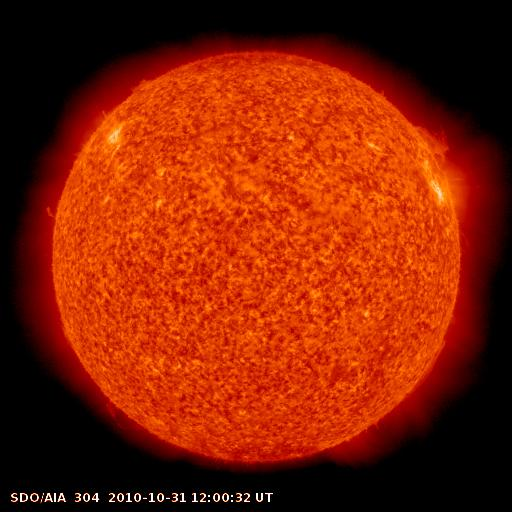prominence: (406, 116, 470, 175), (99, 393, 168, 442), (120, 65, 161, 101), (37, 193, 76, 230)
